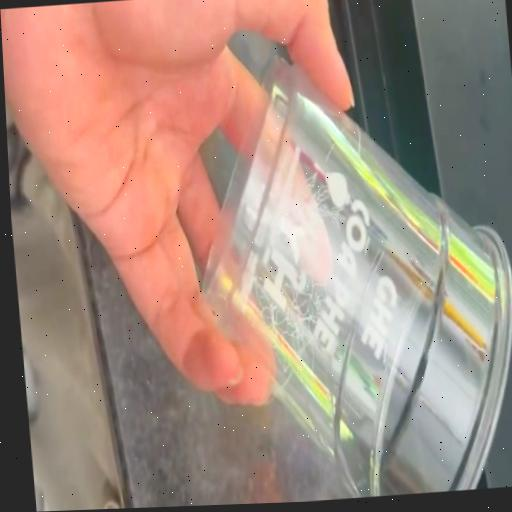ly_nhua: (202, 59, 512, 498)
